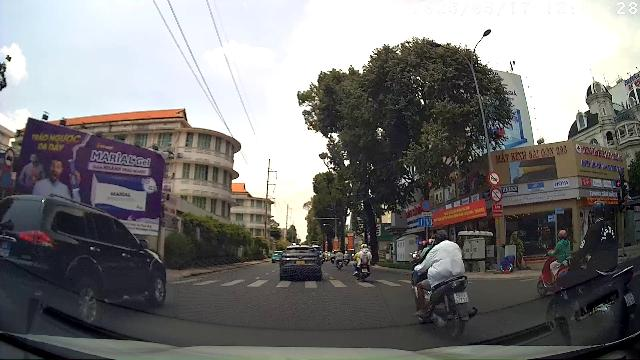128-cam-su-dung-coi: (487, 171, 501, 186)
